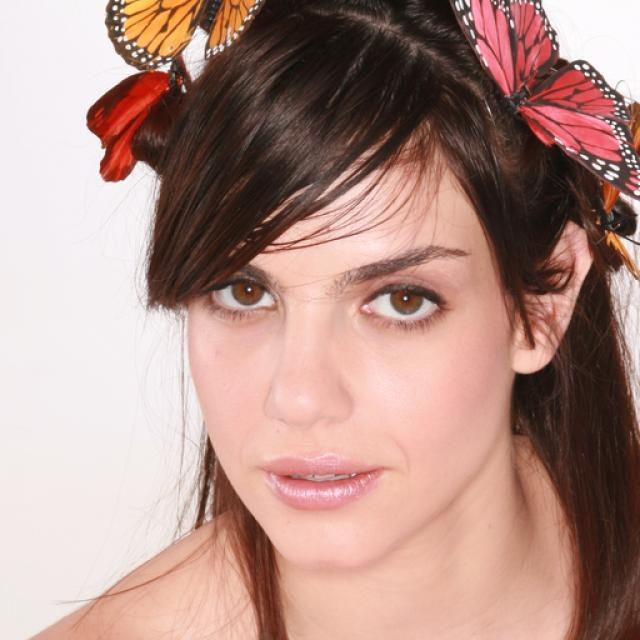content: (188, 134, 512, 568)
